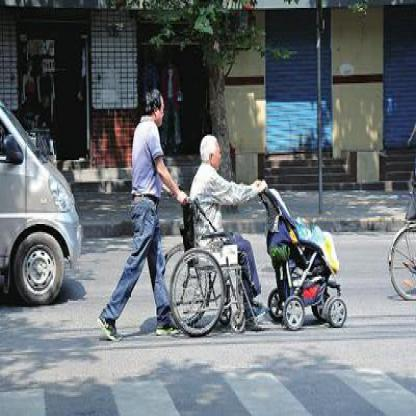wheelchair: (172, 133, 261, 331)
